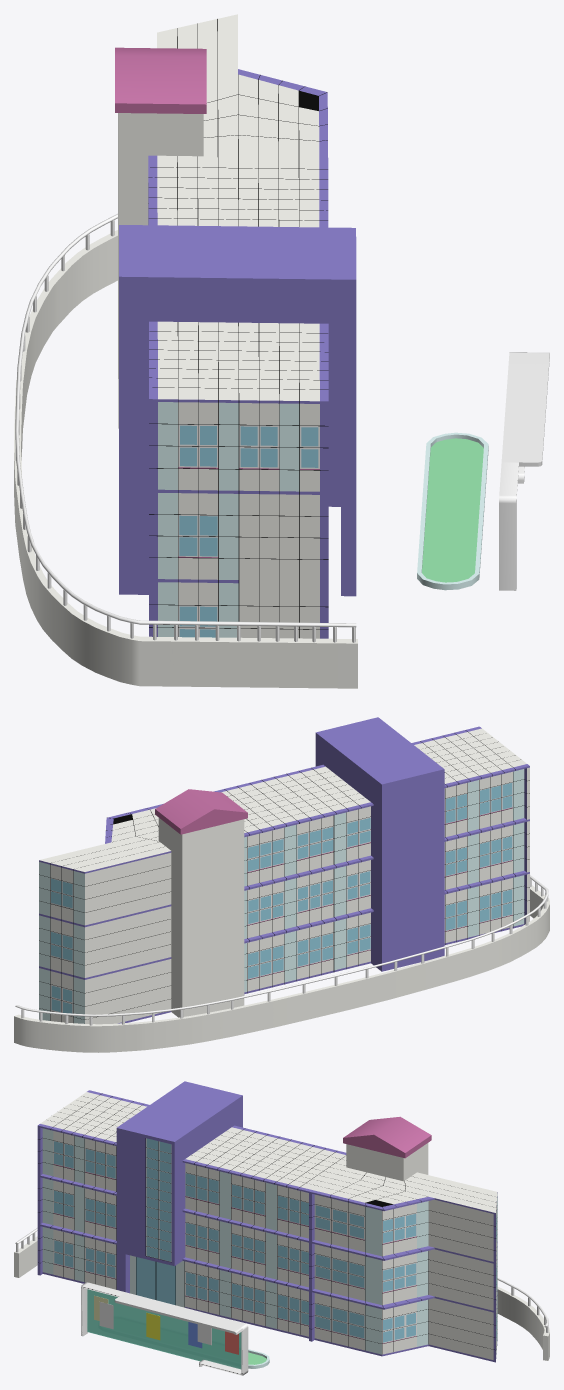
3 views of the same model, one above another, from view 1: azimuth 30°, elevation 25°; view 2: azimuth 150°, elevation 25°; view 3: azimuth 270°, elevation 25° (orthographic). The views are drawn at different scales.
Parts seen in each view (by area): view 1: SH_03, SH_04, SH_15, SH_01, SH_09, SH_13, SH_16, SH_17, SH_05; view 2: SH_03, SH_04, SH_01, SH_15, SH_16, SH_17; view 3: SH_03, SH_04, SH_01, SH_12, SH_13, SH_15, SH_02, SH_05, SH_07, SH_14.
Part boxes in pixels (box(x1,y1,x2,y2)): SH_03: box(148, 14, 328, 638); SH_04: box(119, 225, 356, 594); SH_15: box(14, 230, 357, 688); SH_01: box(115, 47, 206, 428); SH_09: box(417, 432, 488, 590); SH_13: box(499, 352, 549, 590); SH_16: box(15, 214, 356, 627); SH_17: box(15, 220, 355, 642); SH_05: box(341, 507, 356, 596); SH_03: box(39, 726, 529, 1024); SH_04: box(315, 717, 444, 971); SH_01: box(155, 789, 247, 1017); SH_15: box(14, 885, 549, 1052); SH_16: box(15, 875, 548, 1016); SH_17: box(21, 878, 548, 1025); SH_03: box(37, 1090, 497, 1362); SH_04: box(116, 1081, 242, 1266); SH_01: box(343, 1116, 431, 1181); SH_12: box(87, 1289, 241, 1369); SH_13: box(81, 1282, 248, 1375); SH_15: box(14, 1236, 549, 1360); SH_02: box(130, 1255, 184, 1307); SH_05: box(116, 1252, 129, 1293); SH_07: box(146, 1312, 160, 1340); SH_14: box(99, 1302, 113, 1329).
Bounding box in the file's own units: 4.25 × 2.44 × 6.23.
